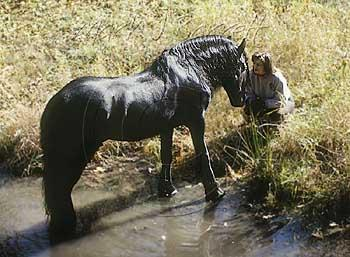horse: (38, 34, 250, 245)
